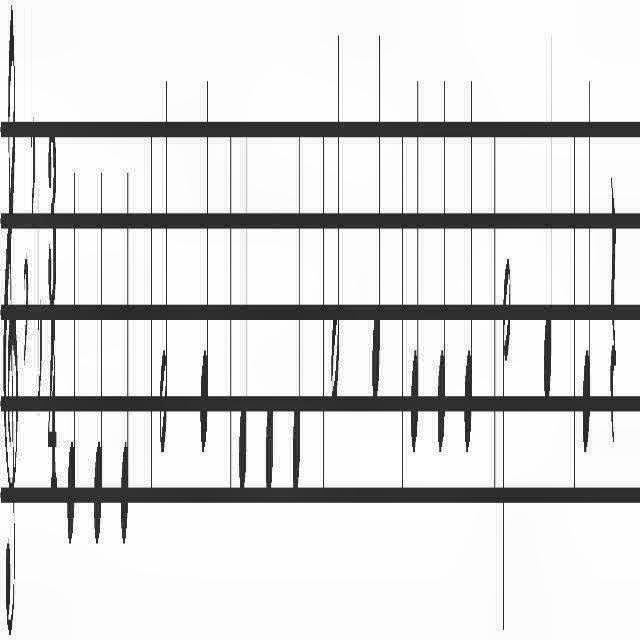Bass-clef: (2, 0, 22, 640)
Bemol: (20, 94, 28, 386), (27, 0, 35, 256), (35, 179, 43, 413)
Half-note: (158, 49, 170, 507), (331, 8, 342, 464), (500, 223, 512, 640)
Quarter-note: (434, 40, 450, 548), (580, 80, 596, 488), (64, 130, 78, 596), (117, 134, 131, 584), (541, 0, 556, 416), (236, 65, 248, 549), (290, 69, 302, 545), (198, 36, 210, 492), (462, 53, 474, 495), (370, 1, 382, 432), (408, 64, 420, 492), (92, 155, 104, 578), (264, 85, 274, 547)
Quarter-rest: (608, 147, 620, 526)
